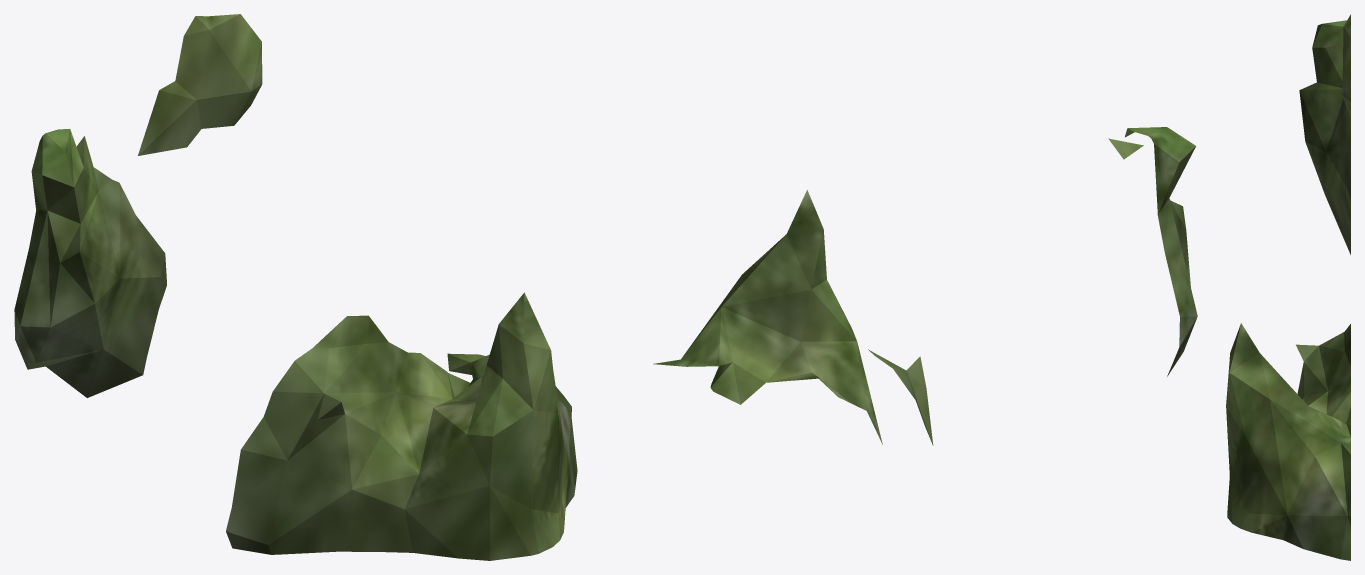
3 views of the same model, side by side, from view 1: azimuth 30°, elevation 25°; view 2: azimuth 150°, elevation 25°; view 3: azimuth 270°, elevation 25° (orthographic). The views are drawn at different scales.
Size of the model in its own units: 1.35 by 1.24 by 0.343.
Materials: 1 (1 with a texture image).
